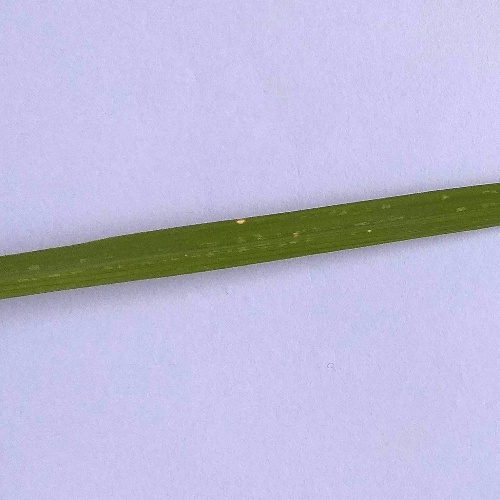Busuk Leher: (229, 216, 255, 231)
